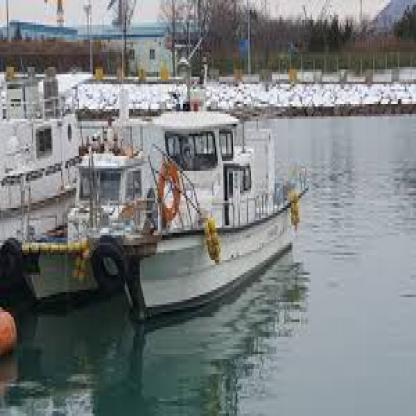fish-b: (113, 87, 314, 344), (12, 134, 154, 314)
